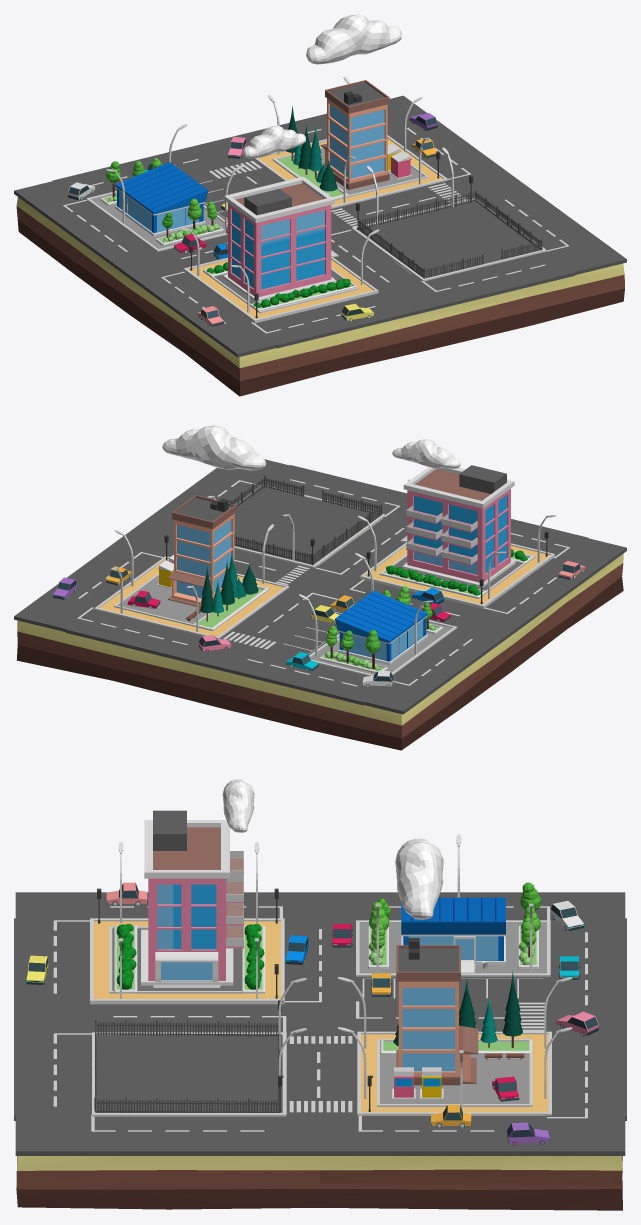
File: city.obj
3 views of the same model, one above another, from view 1: azimuth 30°, elevation 25°; view 2: azimuth 150°, elevation 25°; view 3: azimuth 270°, elevation 25° (orthographic). The views are drawn at different scales.
Parts seen in each view (by area): view 1: ROAD_Mesh.093, Floor_6_Mesh.098, House_Mesh.034, Floor_2_Mesh.042, House_3_Mesh.070, Shop_Mesh.071, cloud.001, Floor_Mesh.029, ROAD_Lines_12_Mesh.097, Floor_3_Mesh.060, Floor_4_4_Mesh.077, cloud (+5 smaller); view 2: ROAD_Mesh.093, Floor_6_Mesh.098, House_Mesh.034, Floor_2_Mesh.042, House_3_Mesh.070, Shop_Mesh.071, cloud.001, Floor_3_Mesh.060, Floor_Mesh.029, ROAD_Lines_12_Mesh.097, Floor_4_3_Mesh.059, Floor_4_4_Mesh.077 (+6 smaller); view 3: ROAD_Mesh.093, Floor_6_Mesh.098, House_Mesh.034, Floor_2_Mesh.042, House_3_Mesh.070, Floor_Mesh.029, Shop_Mesh.071, Floor_3_Mesh.060, Floor_4_3_Mesh.059, ROAD_Lines_12_Mesh.097, Floor_4_4_Mesh.077, cloud.001 (+22 smaller).
Part boxes in pixels (box(x1,y1,x2,y2)): ROAD_Mesh.093: box(14, 95, 626, 357); Floor_6_Mesh.098: box(16, 197, 624, 396); House_Mesh.034: box(223, 176, 338, 302); Floor_2_Mesh.042: box(351, 198, 546, 281); House_3_Mesh.070: box(320, 80, 389, 189); Shop_Mesh.071: box(115, 162, 208, 236); cloud.001: box(306, 14, 401, 64); Floor_Mesh.029: box(183, 257, 378, 323); ROAD_Lines_12_Mesh.097: box(63, 128, 568, 333); Floor_3_Mesh.060: box(253, 135, 447, 208); Floor_4_4_Mesh.077: box(86, 191, 227, 251); cloud: box(243, 125, 305, 158); ROAD_Mesh.093: box(14, 459, 626, 714); Floor_6_Mesh.098: box(16, 528, 623, 750); House_Mesh.034: box(400, 465, 515, 587); Floor_2_Mesh.042: box(234, 484, 385, 567); House_3_Mesh.070: box(167, 495, 236, 607); Shop_Mesh.071: box(335, 590, 427, 664); cloud.001: box(162, 425, 266, 470); Floor_3_Mesh.060: box(94, 556, 289, 638); Floor_Mesh.029: box(360, 542, 554, 608); ROAD_Lines_12_Mesh.097: box(77, 479, 569, 686); Floor_4_3_Mesh.059: box(114, 573, 269, 630); Floor_4_4_Mesh.077: box(309, 620, 457, 675); ROAD_Mesh.093: box(14, 892, 626, 1155); Floor_6_Mesh.098: box(16, 1156, 622, 1210); House_Mesh.034: box(141, 810, 243, 987); Floor_2_Mesh.042: box(92, 1032, 286, 1116); House_3_Mesh.070: box(396, 938, 478, 1085); Floor_Mesh.029: box(90, 918, 284, 1004); Shop_Mesh.071: box(401, 897, 505, 973); Floor_3_Mesh.060: box(357, 1031, 551, 1115); Floor_4_3_Mesh.059: box(377, 1039, 532, 1106); ROAD_Lines_12_Mesh.097: box(53, 906, 587, 1131); Floor_4_4_Mesh.077: box(356, 920, 550, 976); cloud.001: box(395, 838, 443, 919).
Size of the model in its own units: 21.92 by 11.27 by 21.92.
14 materials, 1 textured.
